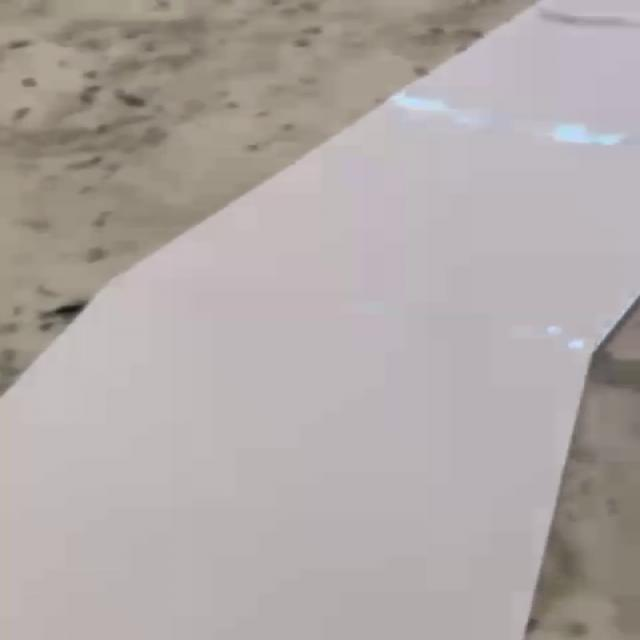road: (0, 0, 640, 640)
